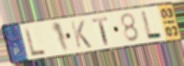1: (51, 21, 71, 55)
8: (120, 12, 140, 44)
K: (69, 19, 94, 50)
L: (23, 25, 48, 58), (140, 10, 164, 40)
T: (91, 15, 110, 46)
